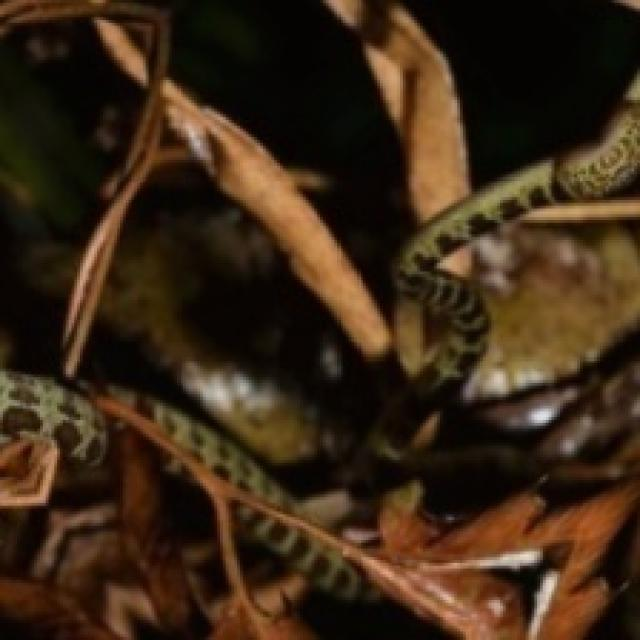mullers wolf snake: (377, 3, 637, 454), (0, 369, 380, 637)
